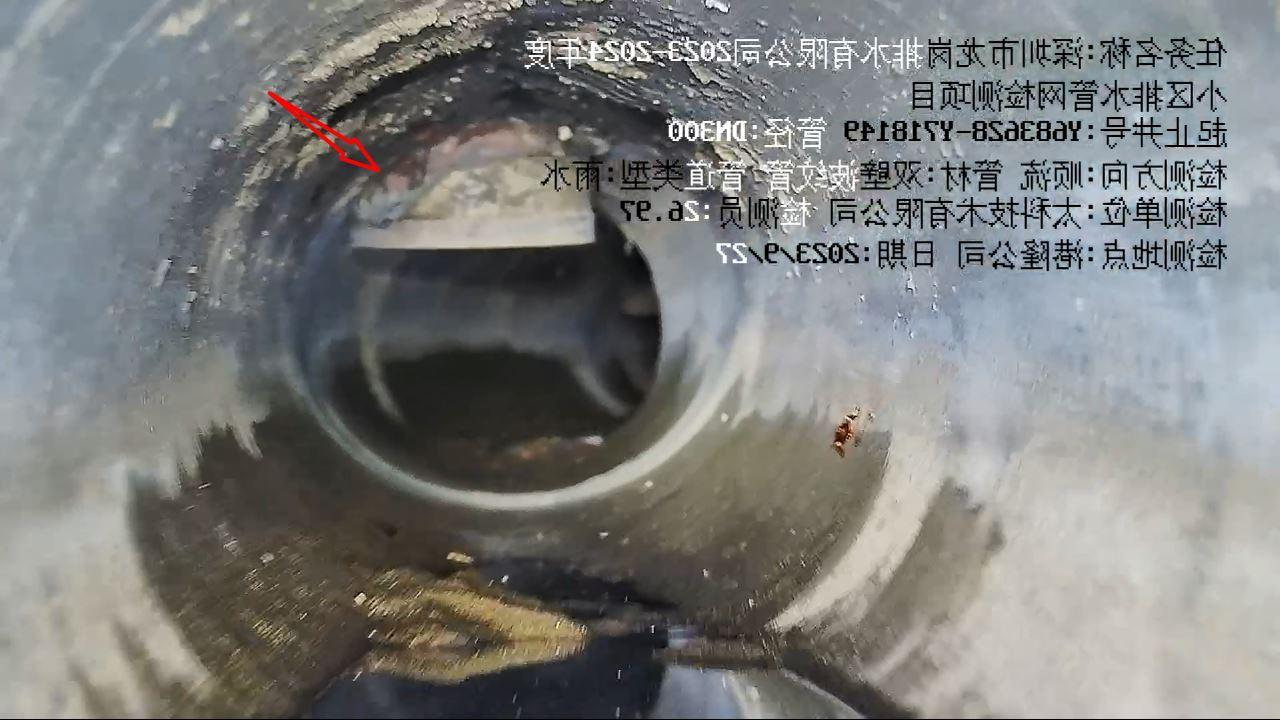ZGAJ: (354, 123, 594, 249)
